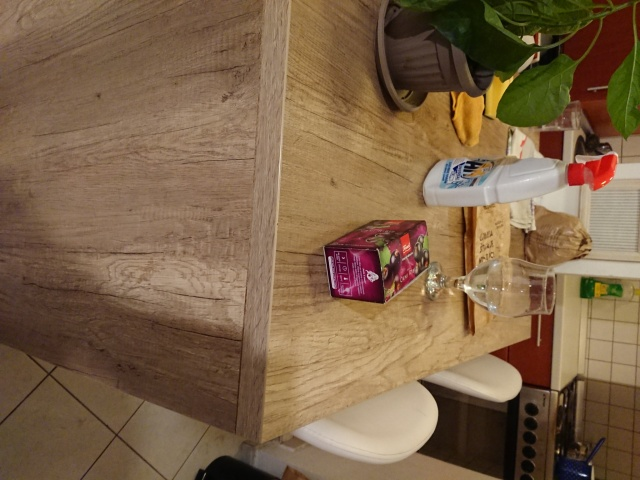Franck Black Currant Tea 60g: (321, 216, 432, 306)
